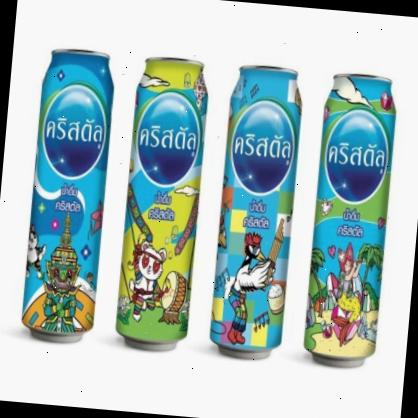can: (18, 44, 118, 346), (206, 60, 306, 362), (300, 70, 400, 372), (112, 53, 212, 354)
